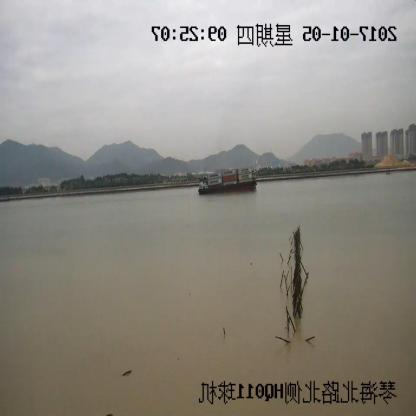Container Ship: (198, 168, 258, 194)
